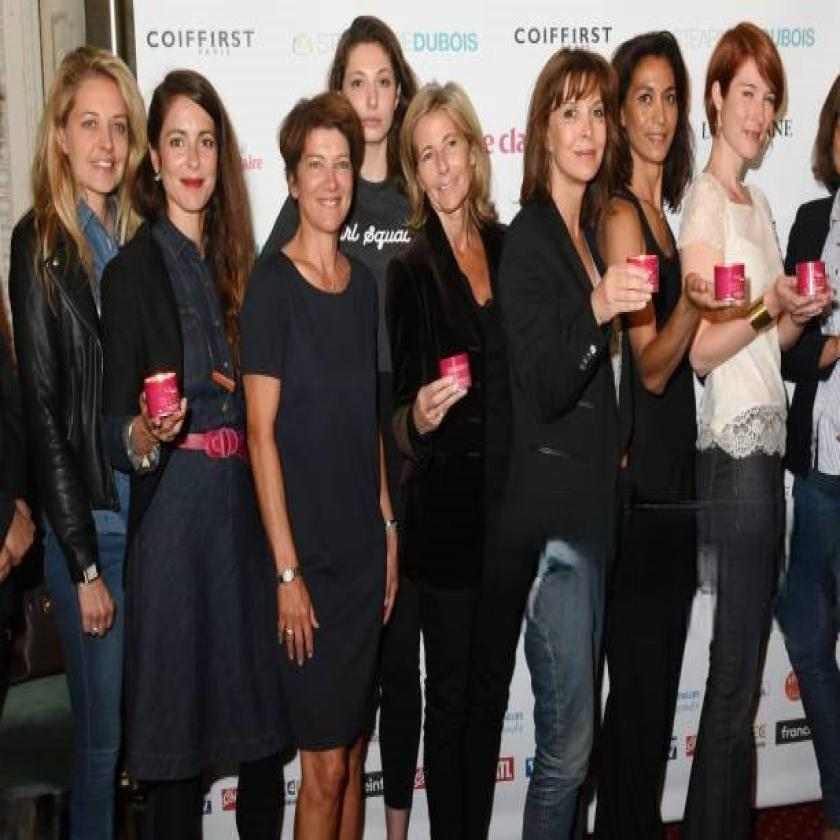Sin_casco: (30, 42, 136, 206), (521, 35, 615, 196), (146, 57, 226, 227), (700, 20, 786, 171), (620, 23, 688, 179), (291, 93, 358, 234), (331, 8, 397, 141), (407, 83, 473, 204)
